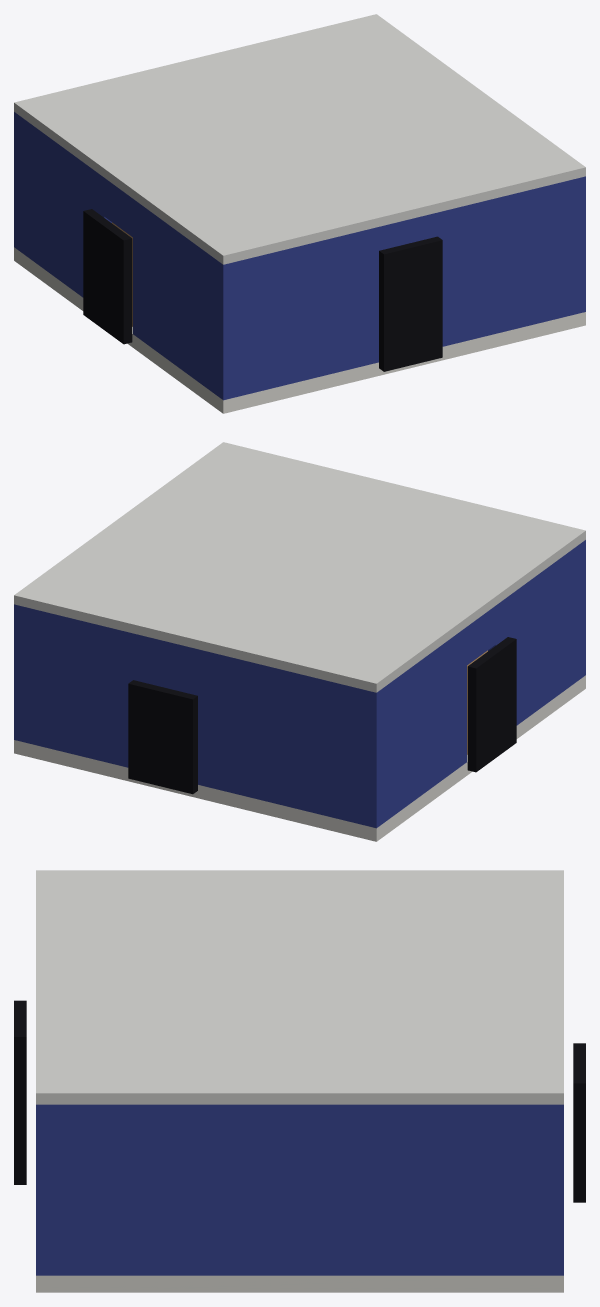
Rendered from rdwe_vending_room.glb.
The picture shows the model from 3 angles, top to bottom: view 1: azimuth 30°, elevation 25°; view 2: azimuth 150°, elevation 25°; view 3: azimuth 270°, elevation 25°; orthographic projection. The views are drawn at different scales.
Parts seen in each view (by area): view 1: Room_Ceiling, Room_Wall_S_1, Room_Wall_S_3, Room_Wall_W_3, Room_Wall_W_1, Beyond_lift, Room_Floor, Beyond_real, Room_Wall_W_2, Room_Wall_S_2, Room_Wall_N_1; view 2: Room_Ceiling, Room_Wall_N_1, Room_Wall_N_3, Room_Wall_W_1, Room_Wall_W_3, Beyond_machine, Room_Floor, Beyond_real, Room_Wall_N_2, Room_Wall_W_2, Room_Wall_S_1; view 3: Room_Ceiling, Room_Wall_E_1, Room_Floor, Beyond_lift, Room_Wall_N_3, Room_Wall_S_3, Beyond_machine.
Boxes of the visible parts, x1,y1,x2,y2 form: Room_Ceiling: (14,14,585,264); Room_Wall_S_1: (218,225,385,400); Room_Wall_S_3: (424,176,585,346); Room_Wall_W_3: (133,199,218,396); Room_Wall_W_1: (19,115,111,297); Beyond_lift: (379,236,442,371); Room_Floor: (14,247,585,413); Beyond_real: (83,209,132,344); Room_Wall_W_2: (104,178,132,237); Room_Wall_S_2: (385,216,423,249); Room_Wall_N_1: (14,112,18,250); Room_Ceiling: (14,442,585,692); Room_Wall_N_1: (192,648,381,828); Room_Wall_N_3: (14,604,146,767); Room_Wall_W_1: (381,627,466,824); Room_Wall_W_3: (488,543,580,725); Beyond_machine: (128,680,197,794); Room_Floor: (14,675,585,841); Beyond_real: (467,637,516,772); Room_Wall_N_2: (147,637,191,694); Room_Wall_W_2: (467,606,495,665); Room_Wall_S_1: (581,540,585,678); Room_Ceiling: (36,870,563,1104); Room_Wall_E_1: (48,1104,551,1275); Room_Floor: (36,1275,563,1292); Beyond_lift: (14,1000,26,1184); Room_Wall_N_3: (551,1104,563,1275); Room_Wall_S_3: (36,1104,48,1275); Beyond_machine: (573,1043,585,1202).
Size of the model in its own units: 8.75 by 3.5 by 9.1.
